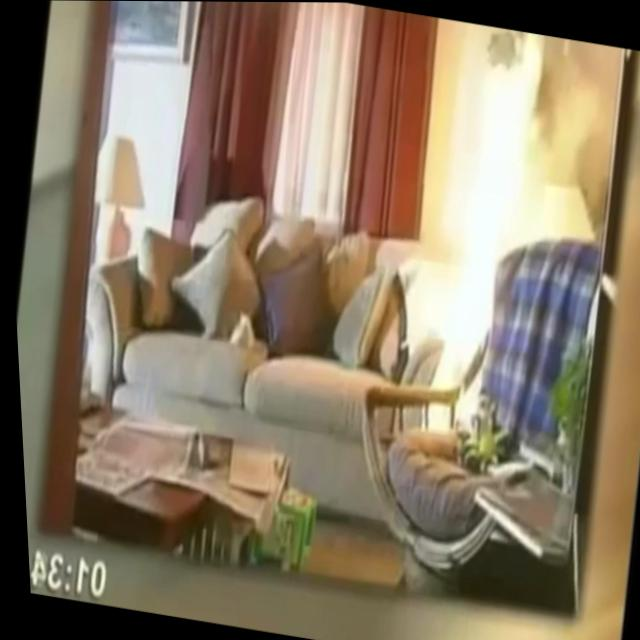fire: (397, 20, 563, 434)
